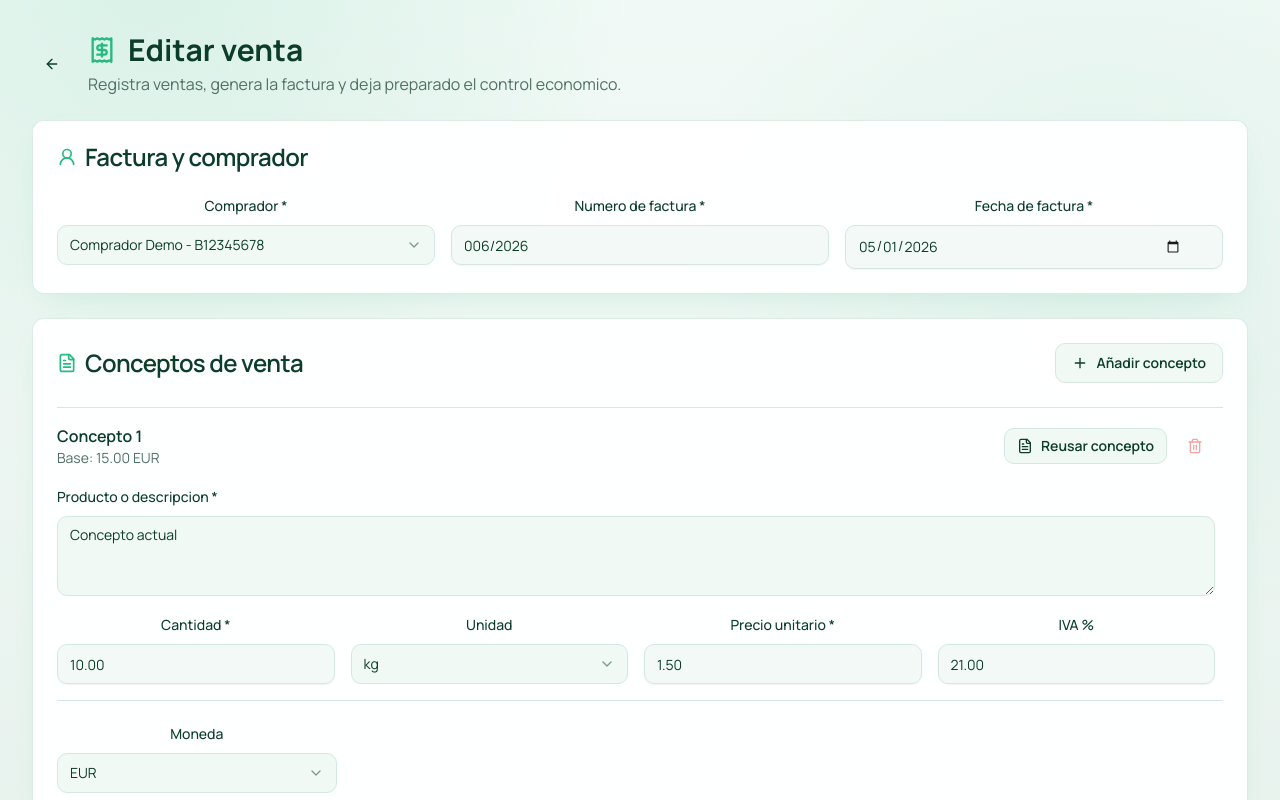
SaleForm › permite reusar conceptos tambien al editar una venta
Expected: the text box labelled "Producto o descripcion *" holds "Concepto actual", [57, 516, 1215, 596]
Click the button "Reusar concepto".
click(1085, 446)  # box [1004, 428, 1167, 464]
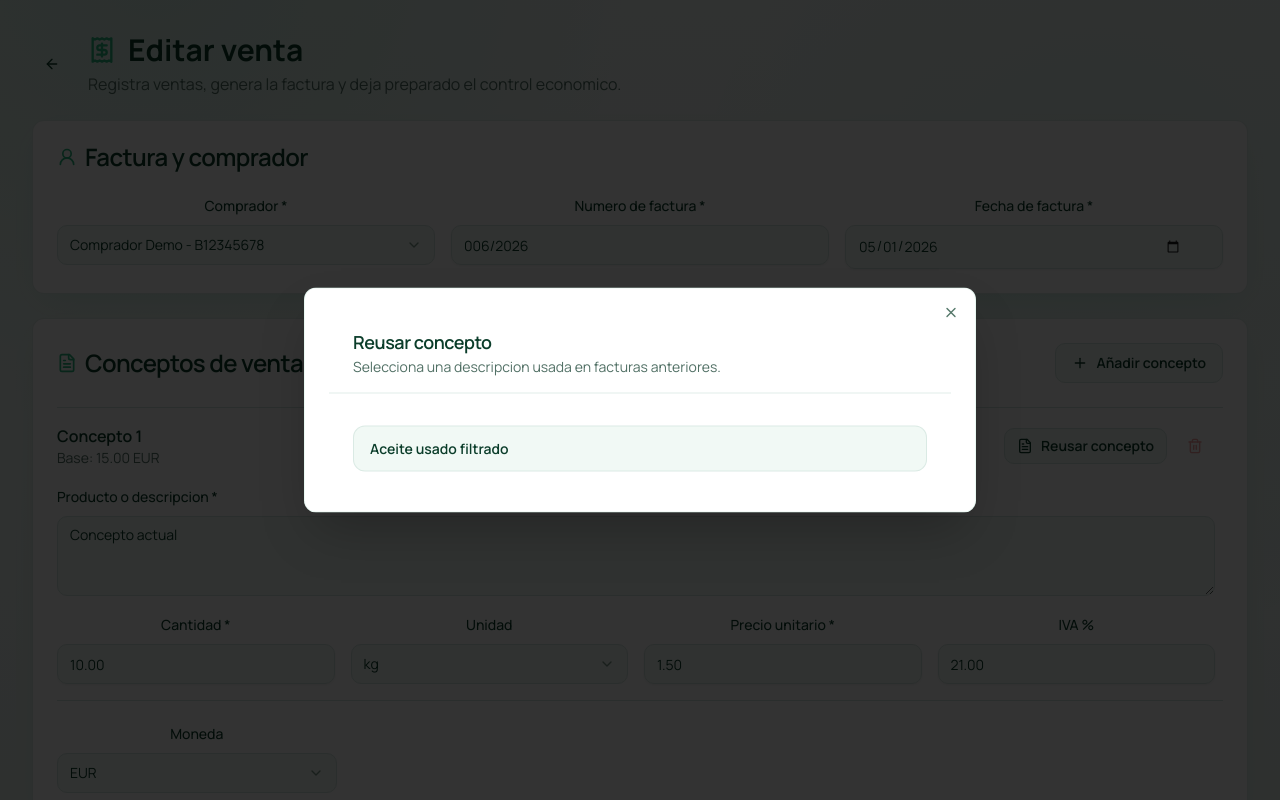
Expected: the heading "Reusar concepto" is shown, [353, 330, 492, 354]
Click the button "Aceite usado filtrado".
click(439, 448)  # box [353, 426, 927, 472]
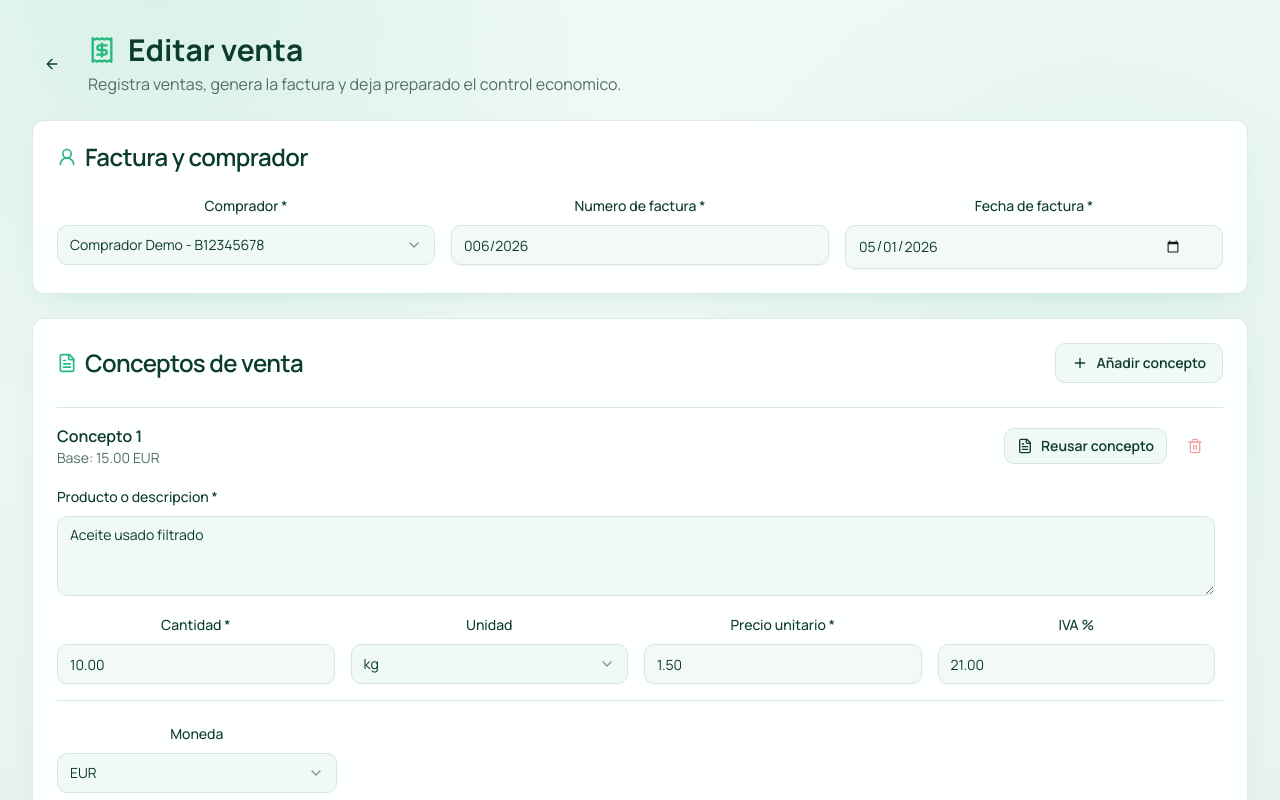
Expected: the text "kg" is shown, [364, 654, 379, 674]
Expected: the text box labelled "Producto o descripcion *" holds "Aceite usado filtrado", [57, 516, 1215, 596]
